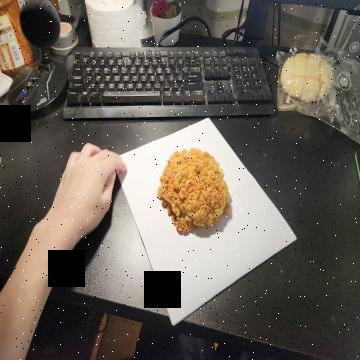soboru_bread: (159, 148, 231, 238)
